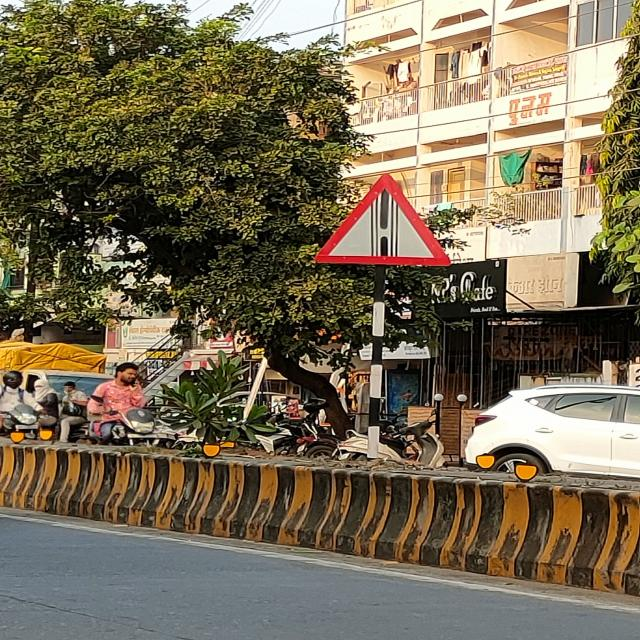ferry: (317, 172, 452, 264)
